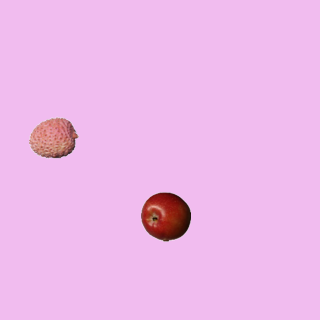Apple Braeburn: (140, 191, 190, 241)
Lychee: (28, 112, 78, 162)
